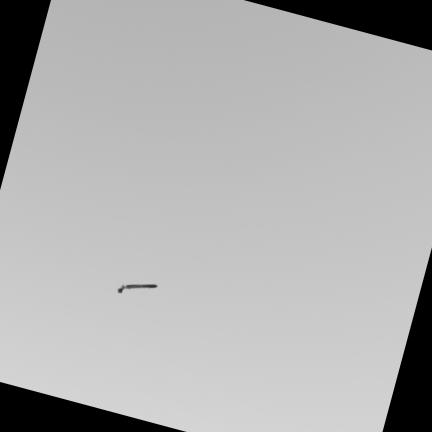Shahed: (117, 283, 157, 292)
